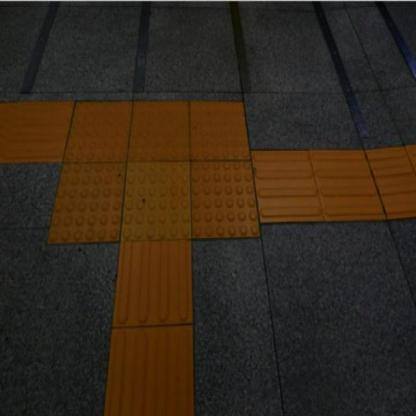podotacti: (28, 66, 286, 283), (101, 247, 194, 416), (262, 142, 416, 225), (0, 99, 64, 163)
